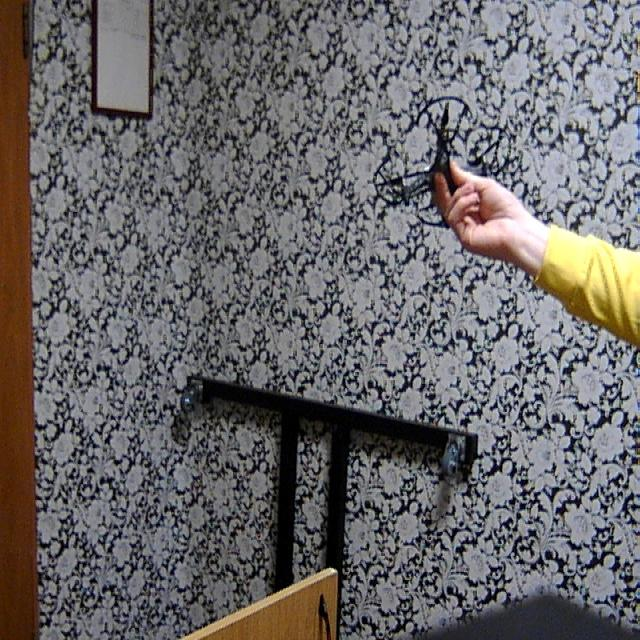drone: (368, 90, 524, 239)
